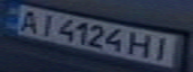1: (69, 20, 90, 46)
2: (84, 21, 106, 50)
4: (103, 26, 127, 54), (54, 16, 78, 42)
A: (12, 7, 45, 34)
H: (127, 29, 157, 58)
I: (148, 34, 178, 63), (33, 11, 60, 37)
